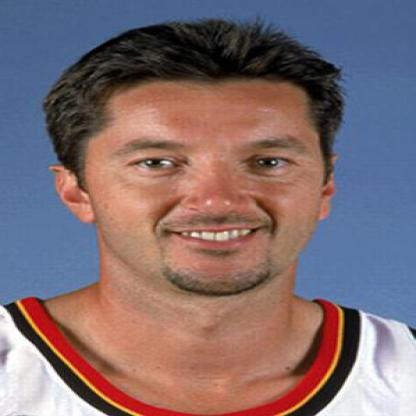face: (85, 31, 327, 299)
